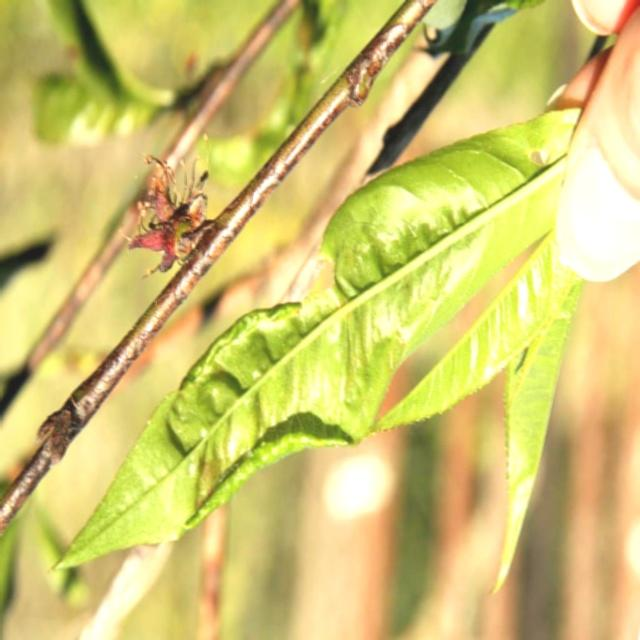leaf_curl: (105, 301, 388, 526)
